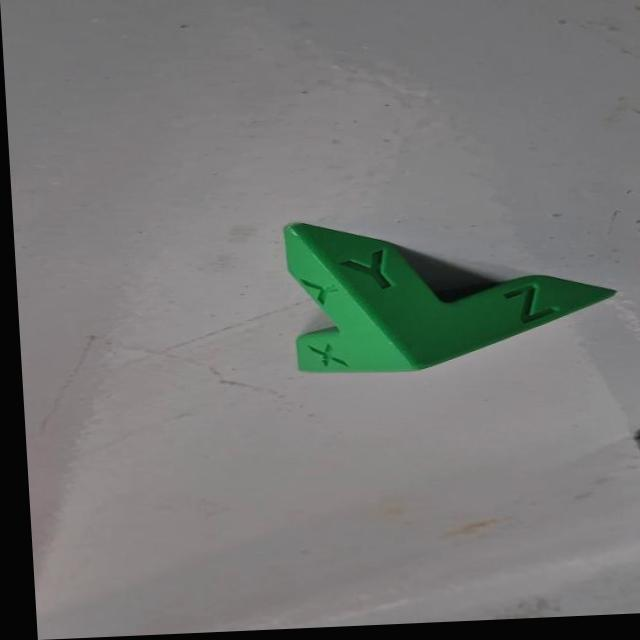eje: (258, 205, 634, 381)
